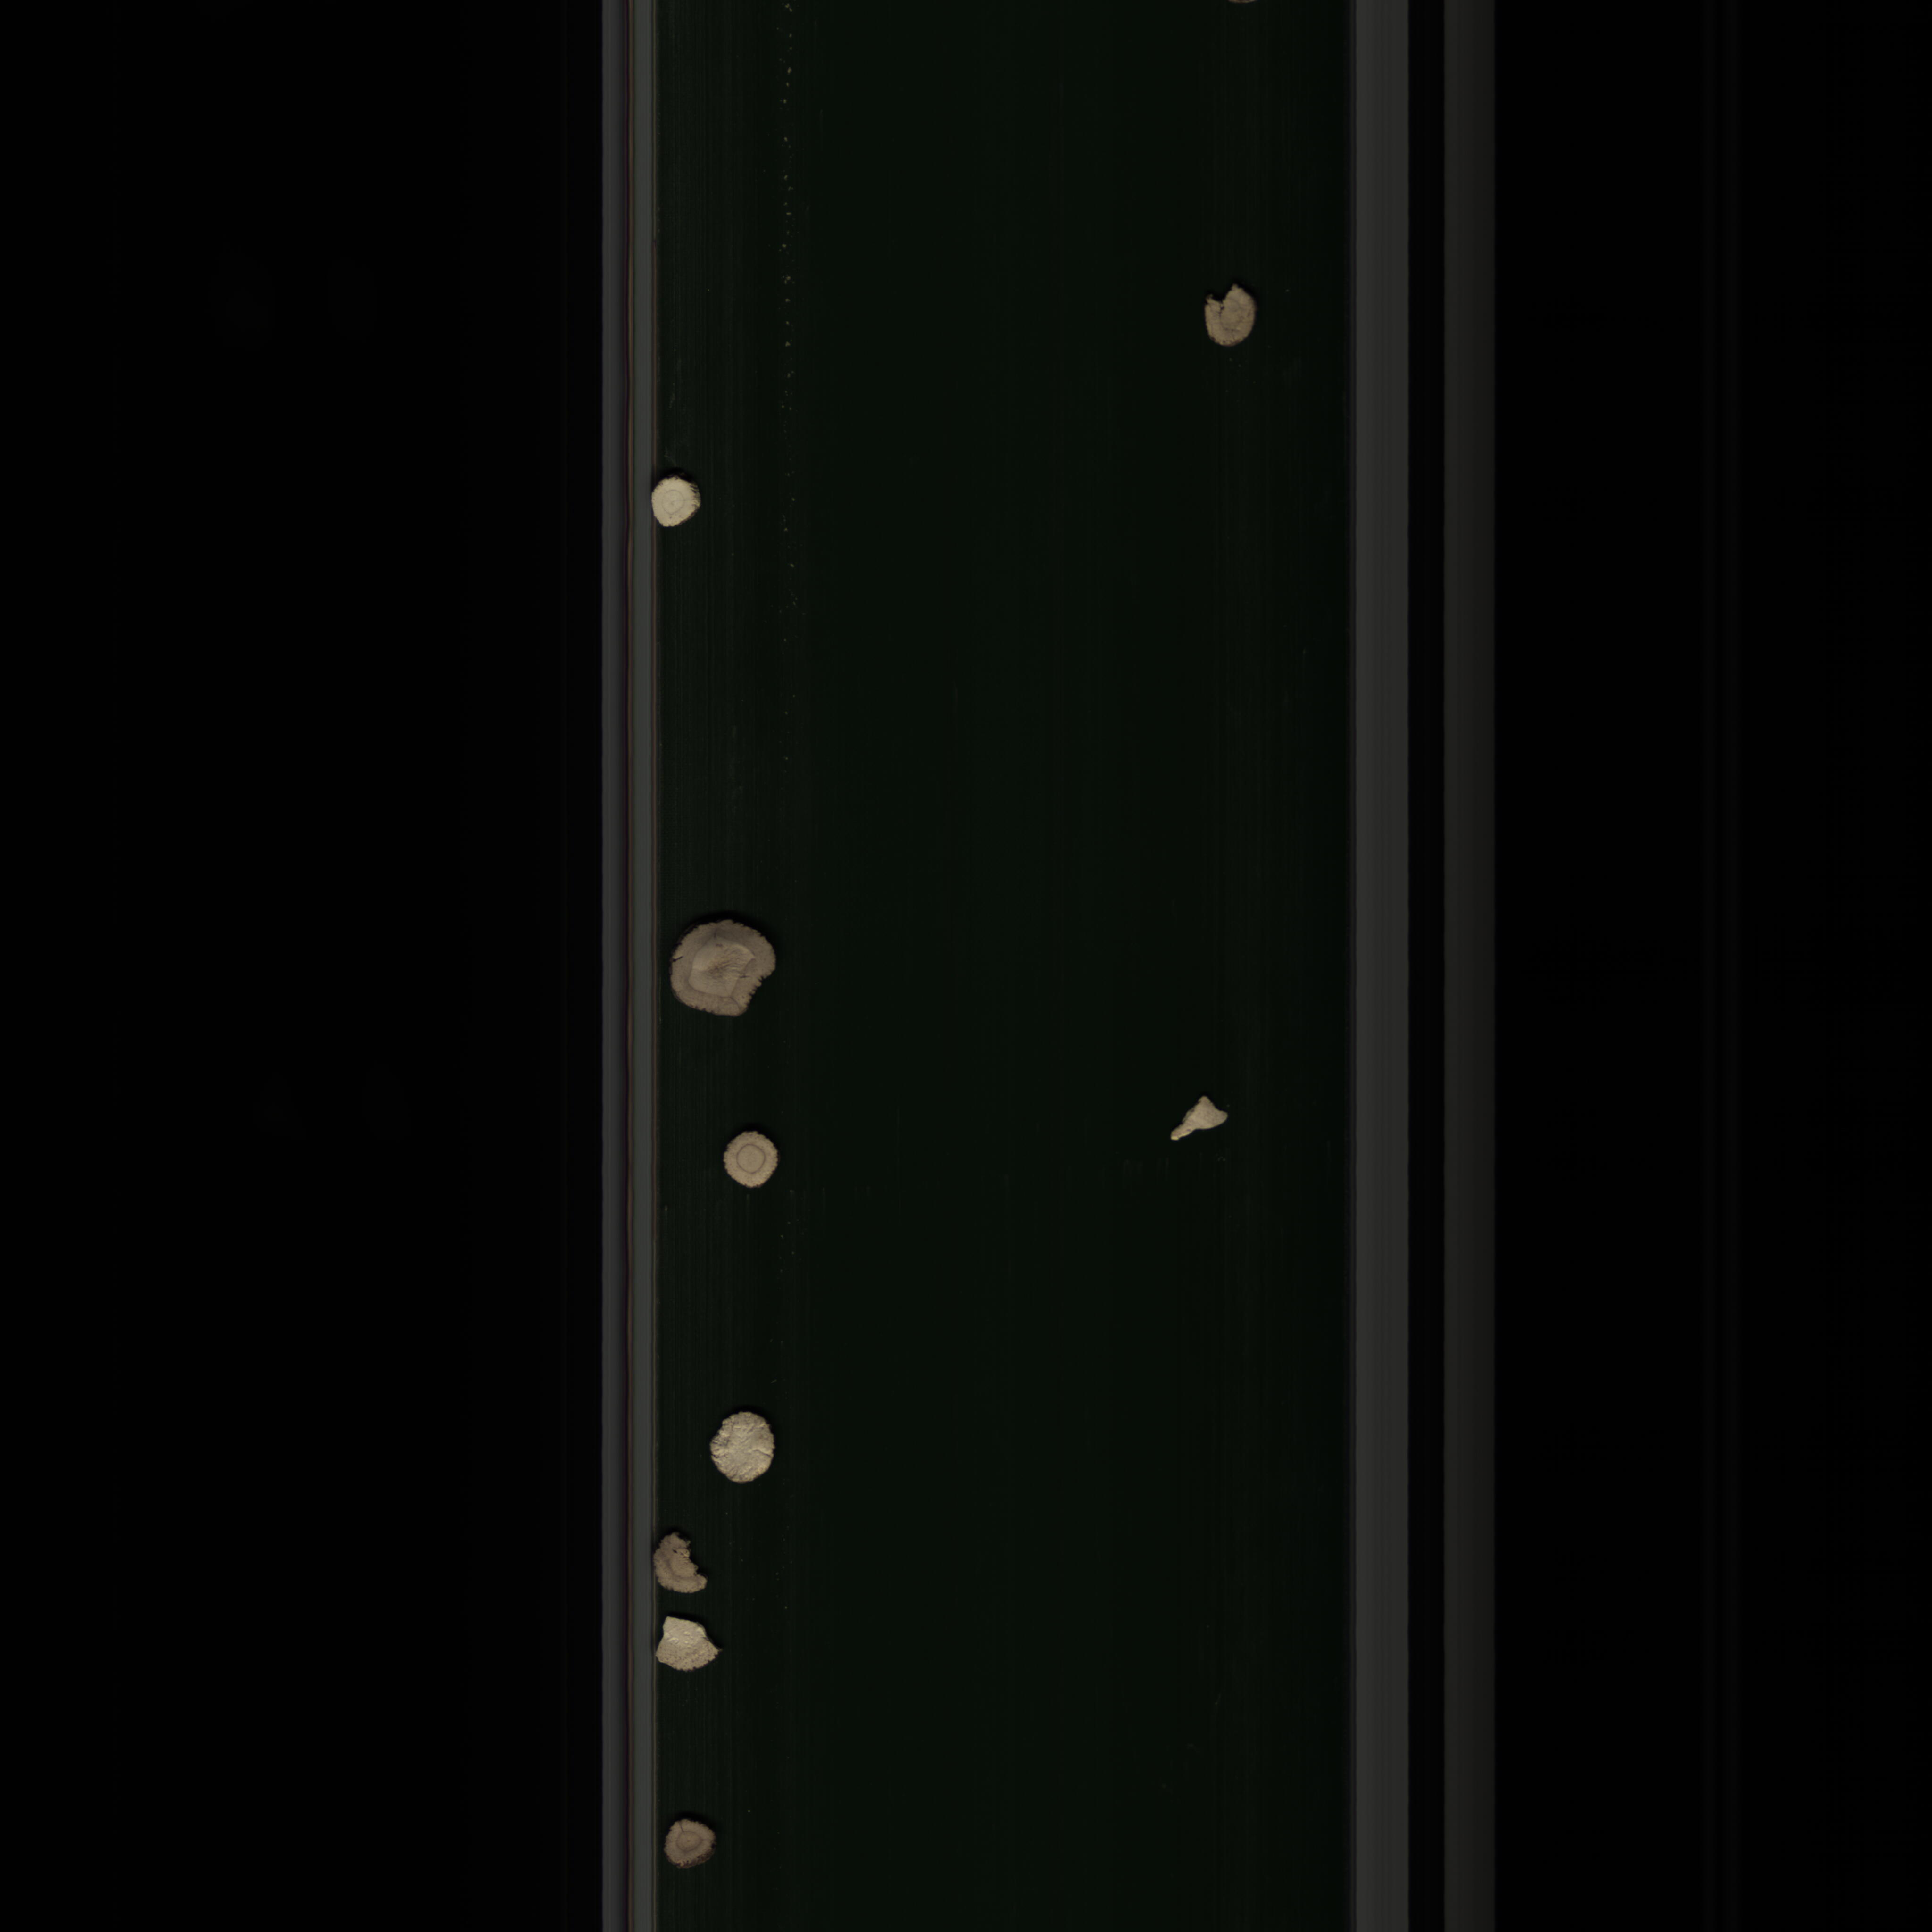bark: (1166, 1090, 1253, 1150)
debris: (640, 1605, 732, 1684), (1200, 267, 1267, 359)
moldy: (648, 1522, 718, 1599), (658, 1813, 732, 1872)
